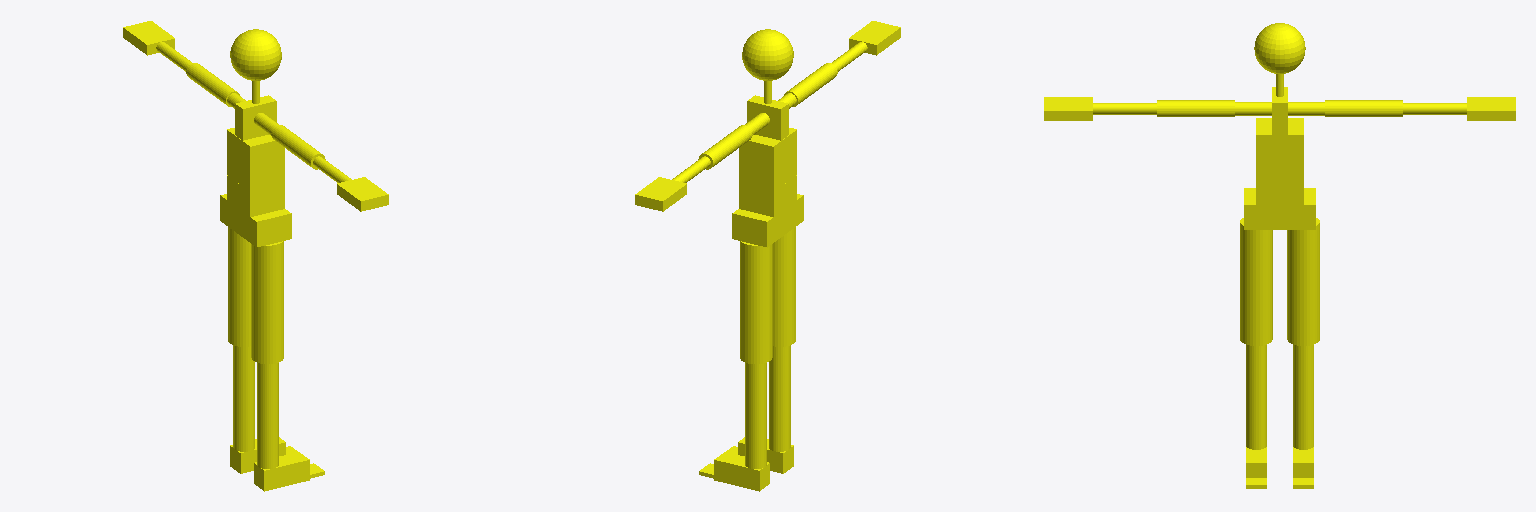
--- Facts derived from the render (not from the file) ---
3 views of the same robot in one strip: view 1: azimuth 30°, elevation 25°; view 2: azimuth 150°, elevation 25°; view 3: azimuth 270°, elevation 25° (orthographic).
Model humanoid with 51 links and 50 joints (50 fixed), rooted at Pelvis, posed all joints at 0.
Visible links, largest first — view 1: RightUpperLeg, LeftUpperLeg, RightLowerLeg, LeftLowerLeg, Head, Pelvis, T12, L5, RightFoot, L3, T8, RightHand (+4 smaller); view 2: LeftUpperLeg, RightUpperLeg, LeftLowerLeg, RightLowerLeg, Head, Pelvis, T12, L5, LeftFoot, L3, T8, LeftHand (+4 smaller); view 3: RightUpperLeg, LeftUpperLeg, Pelvis, RightLowerLeg, LeftLowerLeg, Head, T12, RightUpperArm, LeftUpperArm, L5, RightHand, LeftHand (+6 smaller).
Boxes of the visible links, x1=… form: RightUpperLeg: x1=251, y1=241, x2=283, y2=363; LeftUpperLeg: x1=228, y1=227, x2=250, y2=346; RightLowerLeg: x1=257, y1=363, x2=278, y2=468; LeftLowerLeg: x1=233, y1=345, x2=254, y2=451; Head: x1=230, y1=29, x2=281, y2=80; Pelvis: x1=220, y1=194, x2=291, y2=247; T12: x1=227, y1=128, x2=284, y2=169; L5: x1=227, y1=175, x2=284, y2=216; RightFoot: x1=254, y1=452, x2=309, y2=491; L3: x1=227, y1=153, x2=284, y2=191; T8: x1=235, y1=95, x2=276, y2=140; RightHand: x1=337, y1=177, x2=388, y2=211; LeftUpperLeg: x1=740, y1=241, x2=772, y2=363; RightUpperLeg: x1=773, y1=227, x2=795, y2=346; LeftLowerLeg: x1=745, y1=363, x2=766, y2=468; RightLowerLeg: x1=769, y1=345, x2=790, y2=451; Head: x1=742, y1=29, x2=793, y2=80; Pelvis: x1=732, y1=194, x2=803, y2=247; T12: x1=739, y1=128, x2=796, y2=169; L5: x1=739, y1=175, x2=796, y2=216; LeftFoot: x1=714, y1=452, x2=769, y2=491; L3: x1=739, y1=153, x2=796, y2=191; T8: x1=747, y1=95, x2=788, y2=140; LeftHand: x1=635, y1=177, x2=686, y2=211; RightUpperLeg: x1=1240, y1=218, x2=1272, y2=345; LeftUpperLeg: x1=1287, y1=218, x2=1319, y2=345; Pelvis: x1=1244, y1=188, x2=1315, y2=229; RightLowerLeg: x1=1246, y1=345, x2=1266, y2=449; LeftLowerLeg: x1=1293, y1=345, x2=1313, y2=449; Head: x1=1254, y1=23, x2=1305, y2=73; T12: x1=1256, y1=118, x2=1303, y2=156; RightUpperArm: x1=1157, y1=100, x2=1234, y2=116; LeftUpperArm: x1=1325, y1=100, x2=1402, y2=116; L5: x1=1256, y1=180, x2=1303, y2=204; RightHand: x1=1044, y1=97, x2=1092, y2=120; LeftHand: x1=1467, y1=97, x2=1515, y2=120.
Bounding box of the posed robot: 0.2938 × 1.63 × 1.69 m (x, y, z).
Geometry: primitives only (box / cylinder / sphere), no mesh files.

URDF robot description (humanoid):
<robot name="humanoid">

<material name="color">
    <color rgba="1.0 1.0 0.0784313725490196 1.0" />
</material>

<!--To open this model with Gazebo replace the null masses, inertias and dimensions of the 'fake links f1 and f2'-->
    <!--LINKS-->
	<!--Link base (1)-->
	<link name="Pelvis">
        <inertial>
            <mass value="0.04976"/>
			<!--COM origin wrt pHipOrigin-->
            <origin xyz="0           0    0.049743" rpy="0 0 0" />
            <inertia ixx="0.029678" iyy="0.011854" izz="0.033653" ixy="0" ixz="0" iyz="0"/>
        </inertial>

        <visual>
			<!--box origin wrt pHipOrigin-->
            <origin xyz="0           0    0.049743" rpy="0 0 0" />
            <geometry>
                <box size="0.13815     0.24914    0.097469"/>
            </geometry>
            <material name="color"/>
        </visual>

        <collision>
			<!--box origin wrt pHipOrigin-->
            <origin xyz="0           0    0.049743" rpy="0 0 0" />
            <geometry>
                <box size="0.13815     0.24914    0.097469"/>
            </geometry>
        </collision>

    </link>
    <!--Chain from (2) to (7)-->
	<link name="L5_f1">
        <inertial>
            <mass value="0"/>
            <origin xyz="0 0 0" rpy="0 0 0" />
            <inertia ixx="0" iyy="0" izz="0" ixy="0" ixz="0" iyz="0"/>
        </inertial>
    </link>
	<link name="L5">
        <inertial>
            <mass value="0.063444"/>
			<!--COM origin wrt jL5S1-->
            <origin xyz="0           0    0.047552" rpy="0 0 0" />
            <inertia ixx="0.018868" iyy="0.014872" izz="0.024177" ixy="0" ixz="0" iyz="0"/>
        </inertial>

        <visual>
			<!--box origin origin wrt jL5S1-->
            <origin xyz="0           0    0.047552" rpy="0 0 0" />
            <geometry>
                <box size="0.13815     0.16323    0.095104"/>
            </geometry>
            <material name="color"/>
        </visual>

        <collision>
			<!--box origin origin wrt jL5S1-->
            <origin xyz="0           0    0.047552" rpy="0 0 0" />
            <geometry>
                <box size="0.13815     0.16323    0.095104"/>
            </geometry>
        </collision>
    </link>
	<link name="L3_f1">
        <inertial>
            <mass value="0"/>
            <origin xyz="0 0 0" rpy="0 0 0" />
            <inertia ixx="0" iyy="0" izz="0" ixy="0" ixz="0" iyz="0"/>
        </inertial>
    </link>
	<link name="L3">
        <inertial>
            <mass value="0.063444"/>
			<!--COM origin wrt jL4L3-->
            <origin xyz="0           0    0.042958" rpy="0 0 0" />
            <inertia ixx="0.017989" iyy="0.013993" izz="0.024177" ixy="0" ixz="0" iyz="0"/>
        </inertial>

        <visual>
			<!--box origin origin wrt jL4L3-->
            <origin xyz="0           0    0.042958" rpy="0 0 0" />
            <geometry>
                <box size="0.13815     0.16323    0.085916"/>
            </geometry>
            <material name="color"/>
        </visual>

        <collision>
			<!--box origin origin wrt jL4L3-->
            <origin xyz="0           0    0.042958" rpy="0 0 0" />
            <geometry>
                <box size="0.13815     0.16323    0.085916"/>
            </geometry>
        </collision>
    </link>
	<link name="T12_f1">
        <inertial>
            <mass value="0"/>
            <origin xyz="0 0 0" rpy="0 0 0" />
            <inertia ixx="0" iyy="0" izz="0" ixy="0" ixz="0" iyz="0"/>
        </inertial>
    </link>
	<link name="T12">
        <inertial>
            <mass value="0.063444"/>
			<!--COM origin wrt jL1T12-->
            <origin xyz="0           0    0.042958" rpy="0 0 0" />
            <inertia ixx="0.017989" iyy="0.013993" izz="0.024177" ixy="0" ixz="0" iyz="0"/>
        </inertial>

        <visual>
			<!--box origin origin wrt jL1T12-->
            <origin xyz="0           0    0.042958" rpy="0 0 0" />
            <geometry>
                <box size="0.13815     0.16323    0.085916"/>
            </geometry>
            <material name="color"/>
        </visual>

        <collision>
			<!--box origin origin wrt jL1T12-->
            <origin xyz="0           0    0.042958" rpy="0 0 0" />
            <geometry>
                <box size="0.13815     0.16323    0.085916"/>
            </geometry>
        </collision>
    </link>
	<link name="T8_f1">
        <inertial>
            <mass value="0"/>
            <origin xyz="0 0 0" rpy="0 0 0" />
            <inertia ixx="0" iyy="0" izz="0" ixy="0" ixz="0" iyz="0"/>
        </inertial>
    </link>
	<link name="T8_f2">
        <inertial>
            <mass value="0"/>
            <origin xyz="0 0 0" rpy="0 0 0" />
            <inertia ixx="0" iyy="0" izz="0" ixy="0" ixz="0" iyz="0"/>
        </inertial>
    </link>
	<link name="T8">
        <inertial>
            <mass value="0.02488"/>
			<!--COM origin wrt jT9T8-->
            <origin xyz="0           0    0.059874" rpy="0 0 0" />
            <inertia ixx="0.0035473" iyy="0.0067278" izz="0.0043289" ixy="0" ixz="0" iyz="0"/>
        </inertial>

        <visual>
			<!--box origin wrt jT9T8-->
            <origin xyz="0           0    0.059874" rpy="0 0 0" />
            <geometry>
                <box size="0.13457    0.052626     0.11975"/>
            </geometry>
            <material name="color"/>
        </visual>

        <collision>
			<!--box origin wrt jT9T8-->
            <origin xyz="0           0    0.059874" rpy="0 0 0" />
            <geometry>
                <box size="0.13457    0.052626     0.11975"/>
            </geometry>
        </collision>

    </link>
	<link name="Neck_f1">
        <inertial>
            <mass value="0"/>
            <origin xyz="0 0 0" rpy="0 0 0" />
            <inertia ixx="0" iyy="0" izz="0" ixy="0" ixz="0" iyz="0"/>
        </inertial>
    </link>
	<link name="Neck_f2">
        <inertial>
            <mass value="0"/>
            <origin xyz="0 0 0" rpy="0 0 0" />
            <inertia ixx="0" iyy="0" izz="0" ixy="0" ixz="0" iyz="0"/>
        </inertial>
    </link>
	<link name="Neck">
        <inertial>
            <mass value="0.007464"/>
			<!--COM origin wrt jT1C7-->
            <origin xyz="0           0    0.044626" rpy="0 0 0" />
            <inertia ixx="0.0006461" iyy="0.0006461" izz="0.00030124" ixy="0" ixz="0" iyz="0"/>
        </inertial>

        <visual>
			<!--box origin wrt jT1C7-->
            <origin xyz="0           0    0.044626" rpy="0 0 0" />
            <geometry>
		<cylinder length="0.089252" radius="0.014205"/>
            </geometry>
            <material name="color"/>
        </visual>

        <collision>
			<!--box origin wrt jT1C7-->
            <origin xyz="0           0    0.044626" rpy="0 0 0" />
            <geometry>
                <cylinder length="0.089252" radius="0.014205"/>
            </geometry>
        </collision>
    </link>
	<link name="Head_f1">
        <inertial>
            <mass value="0"/>
            <origin xyz="0 0 0" rpy="0 0 0" />
            <inertia ixx="0" iyy="0" izz="0" ixy="0" ixz="0" iyz="0"/>
        </inertial>
    </link>
	<link name="Head">
        <inertial>
            <mass value="0.022392"/>
			<!--COM origin wrt jC1Head-->
            <origin xyz="0           0    0.089005" rpy="0 0 0" />
            <inertia ixx="0.0070955" iyy="0.0070955" izz="0.0070955" ixy="0" ixz="0" iyz="0"/>
        </inertial>

        <visual>
			<!--boc origin wrt jC1Head-->
            <origin xyz="0           0    0.089005" rpy="0 0 0" />
            <geometry>
                <sphere radius="0.089005"/>
            </geometry>
            <material name="color"/>
        </visual>

        <collision>
			<!--box origin wrt jC1Head-->
            <origin xyz="0           0    0.089005" rpy="0 0 0" />
            <geometry>
                <sphere radius="0.089005"/>
            </geometry>
        </collision>

    </link>
	<!--Chain from (8) to (11)-->
	<link name="RightShoulder">
        <inertial>
            <mass value="0.019282"/>
			<!--COM origin wrt jRightC7Shoulder-->
            <origin xyz="0   -0.065233           0" rpy="0 0 0" />
            <inertia ixx="0.0030029" iyy="0.00053578" izz="0.0030029" ixy="0" ixz="0" iyz="0"/>
        </inertial>

        <visual>
			<!--box origin wrt jRightC7Shoulder. RPY rotated of pi/2.-->
            <origin xyz="0   -0.065233           0" rpy="1.5708 0 0" />
            <geometry>
                <cylinder length="0.13047" radius="0.023574"/>
            </geometry>
            <material name="color"/>
        </visual>

        <collision>
			<!--box origin wrt jRightC7Shoulder. RPY rotated of pi/2.-->
            <origin xyz="0   -0.065233           0" rpy="1.5708 0 0" />
            <geometry>
                <cylinder length="0.13047" radius="0.023574"/>
            </geometry>
        </collision>

    </link>
	<link name="RightUpperArm_f1">
        <inertial>
            <mass value="0"/>
            <origin xyz="0 0 0" rpy="0 0 0" />
            <inertia ixx="0" iyy="0" izz="0" ixy="0" ixz="0" iyz="0"/>
        </inertial>
    </link>
	<link name="RightUpperArm_f2">
        <inertial>
            <mass value="0"/>
            <origin xyz="0 0 0" rpy="0 0 0" />
            <inertia ixx="0" iyy="0" izz="0" ixy="0" ixz="0" iyz="0"/>
        </inertial>
    </link>
    <link name="RightUpperArm">
        <inertial>
            <mass value="0.01866"/>
			<!--COM origin wrt jRightShoulder-->
            <origin xyz="0    -0.13497           0" rpy="0 0 0" />
            <inertia ixx="0.011736" iyy="0.00080917" izz="0.011736" ixy="0" ixz="0" iyz="0"/>
        </inertial>

        <visual>
			<!--box origin wrt jRightShoulder. RPY rotated of pi/2.-->
            <origin xyz="0    -0.13497           0" rpy="1.5708 0 0" />
            <geometry>
                <cylinder length="0.26994" radius="0.029449"/>
            </geometry>
            <material name="color"/>
        </visual>

        <collision>
			<!--box origin wrt jRightShoulder. RPY rotated of pi/2.-->
            <origin xyz="0    -0.13497           0" rpy="1.5708 0 0" />
            <geometry>
                <cylinder length="0.26994" radius="0.029449"/>
            </geometry>
        </collision>

    </link>
	<link name="RightForeArm_f1">
        <inertial>
            <mass value="0"/>
            <origin xyz="0 0 0" rpy="0 0 0" />
            <inertia ixx="0" iyy="0" izz="0" ixy="0" ixz="0" iyz="0"/>
        </inertial>
    </link>
	<link name="RightForeArm">
        <inertial>
            <mass value="0.01244"/>
			<!--COM origin wrt jRightElbow-->
            <origin xyz="0    -0.11124           0" rpy="0 0 0" />
            <inertia ixx="0.0052508" iyy="0.00023975" izz="0.0052508" ixy="0" ixz="0" iyz="0"/>
        </inertial>

        <visual>
			<!--box origin wrt jRightElbow. RPY rotated of pi/2.-->
            <origin xyz="0    -0.11124           0" rpy="1.5708 0 0" />
            <geometry>
                <cylinder length="0.22247" radius="0.019633"/>
            </geometry>
            <material name="color"/>
        </visual>

        <collision>
			<!--box origin wrt jRightElbow. RPY rotated of pi/2.-->
            <origin xyz="0    -0.11124           0" rpy="1.5708 0 0" />
            <geometry>
                <cylinder length="0.22247" radius="0.019633"/>
            </geometry>
        </collision>

    </link>
	<link name="RightHand_f1">
        <inertial>
            <mass value="0"/>
            <origin xyz="0 0 0" rpy="0 0 0" />
            <inertia ixx="0" iyy="0" izz="0" ixy="0" ixz="0" iyz="0"/>
        </inertial>
    </link>
	<link name="RightHand">
        <inertial>
            <mass value="0.003732"/>
			<!--COM origin wrt jRightWrist-->
            <origin xyz="0   -0.083588           0" rpy="0 0 0" />
            <inertia ixx="0.00091713" iyy="0.00043425" izz="0.0012555" ixy="0" ixz="0" iyz="0"/>
        </inertial>

        <visual>
			<!--box origin wrt jRightWrist-->
            <origin xyz="0   -0.083588           0" rpy="0 0 0" />
            <geometry>
                <box size="0.11145     0.16718    0.039266"/>
            </geometry>
            <material name="color"/>
        </visual>

        <collision>
			<!--box origin wrt jRightWrist-->
            <origin xyz="0   -0.083588           0" rpy="0 0 0" />
            <geometry>
                <box size="0.11145     0.16718    0.039266"/>
            </geometry>
        </collision>

    </link>
    <link name="RightHandCOM">
        <inertial>
            <mass value="0.0000001"/>
            <origin xyz="0 0 0" rpy="0 0 0" />
            <inertia ixx="0" iyy="0" izz="0" ixy="0" ixz="0" iyz="0"/>
        </inertial>
        <visual>
            <!--box origin wrt jRightWrist-->
            <origin xyz="0   0           0" rpy="0 0 0" />
            <geometry>
                <box size="0     0    0"/>
            </geometry>
            <material name="color"/>
        </visual>
    </link>
	<!--Chain from (12) to (15)-->
	<link name="LeftShoulder">
        <inertial>
            <mass value="0.019282"/>
			<!--COM origin wrt jLeftC7Shoulder-->
            <origin xyz="0    0.065233           0" rpy="0 0 0" />
            <inertia ixx="0.0030029" iyy="0.00053578" izz="0.0030029" ixy="0" ixz="0" iyz="0"/>
        </inertial>

        <visual>
			<!--box origin wrt jLeftC7Shoulder. RPY rotated of pi/2.-->
            <origin xyz="0    0.065233           0" rpy="1.5708 0 0" />
            <geometry>
                <cylinder length="0.13047" radius="0.023574"/>
            </geometry>
            <material name="color"/>
        </visual>

        <collision>
			<!--box origin wrt jLeftC7Shoulder. RPY rotated of pi/2.-->
            <origin xyz="0    0.065233           0" rpy="1.5708 0 0" />
            <geometry>
                <cylinder length="0.13047" radius="0.023574"/>
            </geometry>
        </collision>

    </link>
	<link name="LeftUpperArm_f1">
        <inertial>
            <mass value="0"/>
            <origin xyz="0 0 0" rpy="0 0 0" />
            <inertia ixx="0" iyy="0" izz="0" ixy="0" ixz="0" iyz="0"/>
        </inertial>
    </link>
	<link name="LeftUpperArm_f2">
        <inertial>
            <mass value="0"/>
            <origin xyz="0 0 0" rpy="0 0 0" />
            <inertia ixx="0" iyy="0" izz="0" ixy="0" ixz="0" iyz="0"/>
        </inertial>
    </link>
	<link name="LeftUpperArm">
        <inertial>
            <mass value="0.01866"/>
			<!--COM origin wrt jLeftShoulder-->
            <origin xyz="0     0.13497           0" rpy="0 0 0" />
            <inertia ixx="0.011736" iyy="0.00080917" izz="0.011736" ixy="0" ixz="0" iyz="0"/>
        </inertial>

        <visual>
			<!--box origin wrt jLeftShoulder. RPY rotated of pi/2.-->
            <origin xyz="0     0.13497           0" rpy="1.5708 0 0" />
            <geometry>
                <cylinder length="0.26994" radius="0.029449"/>
            </geometry>
            <material name="color"/>
        </visual>

        <collision>
			<!--box origin wrt jLeftShoulder. RPY rotated of pi/2.-->
            <origin xyz="0     0.13497           0" rpy="1.5708 0 0" />
            <geometry>
                <cylinder length="0.26994" radius="0.029449"/>
            </geometry>
        </collision>

    </link>
	<link name="LeftForeArm_f1">
        <inertial>
            <mass value="0"/>
            <origin xyz="0 0 0" rpy="0 0 0" />
            <inertia ixx="0" iyy="0" izz="0" ixy="0" ixz="0" iyz="0"/>
        </inertial>
    </link>
	<link name="LeftForeArm">
        <inertial>
            <mass value="0.01244"/>
			<!--COM origin wrt jLeftElbow-->
            <origin xyz="0     0.11124           0" rpy="0 0 0" />
            <inertia ixx="0.0052508" iyy="0.00023975" izz="0.0052508" ixy="0" ixz="0" iyz="0"/>
        </inertial>

        <visual>
			<!--box origin wrt jLeftElbow. RPY rotated of pi/2.-->
            <origin xyz="0     0.11124           0" rpy="1.5708 0 0" />
            <geometry>
                <cylinder length="0.22247" radius="0.019633"/>
            </geometry>
            <material name="color"/>
        </visual>

        <collision>
			<!--box origin wrt jLeftElbow. RPY rotated of pi/2.-->
            <origin xyz="0     0.11124           0" rpy="1.5708 0 0" />
            <geometry>
                <cylinder length="0.22247" radius="0.019633"/>
            </geometry>
        </collision>

    </link>
	<link name="LeftHand_f1">
        <inertial>
            <mass value="0"/>
            <origin xyz="0 0 0" rpy="0 0 0" />
            <inertia ixx="0" iyy="0" izz="0" ixy="0" ixz="0" iyz="0"/>
        </inertial>
    </link>
	<link name="LeftHand">
        <inertial>
            <mass value="0.003732"/>
			<!--COM origin wrt jLeftWrist-->
            <origin xyz="0    0.083588           0" rpy="0 0 0" />
            <inertia ixx="0.00091713" iyy="0.00043425" izz="0.0012555" ixy="0" ixz="0" iyz="0"/>
        </inertial>

        <visual>
			<!--COM origin wrt jLeftWrist-->
            <origin xyz="0    0.083588           0" rpy="0 0 0" />
            <geometry>
                <box size="0.11145     0.16718    0.039266"/>
            </geometry>
            <material name="color"/>
        </visual>

        <collision>
			<!--COM origin wrt jLeftWrist-->
            <origin xyz="0    0.083588           0" rpy="0 0 0" />
            <geometry>
                <box size="0.11145     0.16718    0.039266"/>
            </geometry>
        </collision>

    </link>
    <link name="LeftHandCOM">
        <inertial>
            <mass value="0.0000001"/>
            <origin xyz="0 0 0" rpy="0 0 0" />
            <inertia ixx="0" iyy="0" izz="0" ixy="0" ixz="0" iyz="0"/>
        </inertial>
        <visual>
            <!--COM origin wrt jLeftWrist-->
            <origin xyz="0    0           0" rpy="0 0 0" />
            <geometry>
                <box size="0     0    0"/>
            </geometry>
            <material name="color"/>
        </visual>
    </link>
	<!--Chain from (16) to (19)-->
	<link name="RightUpperLeg_f1">
        <inertial>
            <mass value="0"/>
            <origin xyz="0 0 0" rpy="0 0 0" />
            <inertia ixx="0" iyy="0" izz="0" ixy="0" ixz="0" iyz="0"/>
        </inertial>
    </link>
	<link name="RightUpperLeg_f2">
        <inertial>
            <mass value="0"/>
            <origin xyz="0 0 0" rpy="0 0 0" />
            <inertia ixx="0" iyy="0" izz="0" ixy="0" ixz="0" iyz="0"/>
        </inertial>
    </link>
    <link name="RightUpperLeg">
        <inertial>
            <mass value="0.07775"/>
			<!--COM origin wrt jRightHip-->
            <origin xyz="0           0    -0.22449" rpy="0 0 0" />
            <inertia ixx="0.13681" iyy="0.13681" izz="0.01241" ixy="0" ixz="0" iyz="0"/>
        </inertial>

        <visual>
			<!--box origin wrt jRightHip-->
            <origin xyz="0           0    -0.22449" rpy="0 0 0" />
            <geometry>
                <cylinder length="0.44898" radius="0.0565"/>
            </geometry>
            <material name="color"/>
        </visual>

        <collision>
			<!--box origin wrt jRightHip-->
            <origin xyz="0           0    -0.22449" rpy="0 0 0" />
            <geometry>
                <cylinder length="0.44898" radius="0.0565"/>
            </geometry>
        </collision>

    </link>
	<link name="RightLowerLeg_f1">
        <inertial>
            <mass value="0"/>
            <origin xyz="0 0 0" rpy="0 0 0" />
            <inertia ixx="0" iyy="0" izz="0" ixy="0" ixz="0" iyz="0"/>
        </inertial>
    </link>
    <link name="RightLowerLeg">
        <inertial>
            <mass value="0.022703"/>
			<!--COM origin wrt jRightKnee-->
            <origin xyz="0           0    -0.20304" rpy="0 0 0" />
            <inertia ixx="0.031992" iyy="0.031992" izz="0.0015867" ixy="0" ixz="0" iyz="0"/>
        </inertial>

        <visual>
			<!--box origin wrt jRightKnee-->
            <origin xyz="0           0    -0.20304" rpy="0 0 0" />
            <geometry>
                <cylinder length="0.40608" radius="0.037388"/>
            </geometry>
            <material name="color"/>
        </visual>

        <collision>
			<!--box origin wrt jRightKnee-->
            <origin xyz="0           0    -0.20304" rpy="0 0 0" />
            <geometry>
                <cylinder length="0.40608" radius="0.037388"/>
            </geometry>
        </collision>

    </link>
	<link name="RightFoot_f1">
        <inertial>
            <mass value="0"/>
            <origin xyz="0 0 0" rpy="0 0 0" />
            <inertia ixx="0" iyy="0" izz="0" ixy="0" ixz="0" iyz="0"/>
        </inertial>
    </link>
	<link name="RightFoot_f2">
        <inertial>
            <mass value="0"/>
            <origin xyz="0 0 0" rpy="0 0 0" />
            <inertia ixx="0" iyy="0" izz="0" ixy="0" ixz="0" iyz="0"/>
        </inertial>
    </link>
    <link name="RightFoot">
        <inertial>
            <mass value="0.008086"/>
			<!--COM origin wrt jRightAnkle-->
            <origin xyz="0.054652           0   -0.039254" rpy="0 0 0" />
            <inertia ixx="0.00079209" iyy="0.0025944" izz="0.0025558" ixy="0" ixz="0" iyz="0"/>
        </inertial>

        <visual>
			<!--box origin wrt jRightAnkle-->
	    	<origin xyz="0.054652           0   -0.039254" rpy="0 0 0" />
            <geometry>
                <box size="0.17983    0.074775    0.078509"/>
            </geometry>
            <material name="color"/>
        </visual>

        <collision>
			<!--box origin wrt jRightAnkle-->
		    <origin xyz="0.054652           0   -0.039254" rpy="0 0 0" />
	            <geometry>
	                <box size="0.17983    0.074775    0.078509"/>
	            </geometry>
        </collision>

    </link>
    <link name="RightToe">
        <inertial>
            <mass value="0.000933"/>
			<!--COM origin wrt jRightBallFoot-->
            <origin xyz="0.030086           0           0" rpy="0 0 0" />
            <inertia ixx="4.5038e-05" iyy="2.9717e-05" izz="7.1624e-05" ixy="0" ixz="0" iyz="0"/>
        </inertial>

        <visual>
			<!--box origin wrt jRightBallFoot-->
            <origin xyz="0.030086           0           0" rpy="0 0 0" />
            <geometry>
                <box size="0.060173    0.074775    0.014191"/>
            </geometry>
            <material name="color"/>
        </visual>

        <collision>
			<!--box origin wrt jRightBallFoot-->
            <origin xyz="0.030086           0           0" rpy="0 0 0" />
            <geometry>
                <box size="0.060173    0.074775    0.014191"/>
            </geometry>
        </collision>
    </link>
	<!--Chain from (20) to (23)-->
	<link name="LeftUpperLeg_f1">
        <inertial>
            <mass value="0"/>
            <origin xyz="0 0 0" rpy="0 0 0" />
            <inertia ixx="0" iyy="0" izz="0" ixy="0" ixz="0" iyz="0"/>
        </inertial>
    </link>
	<link name="LeftUpperLeg_f2">
        <inertial>
            <mass value="0"/>
            <origin xyz="0 0 0" rpy="0 0 0" />
            <inertia ixx="0" iyy="0" izz="0" ixy="0" ixz="0" iyz="0"/>
        </inertial>
    </link>
    <link name="LeftUpperLeg">
        <inertial>
            <mass value="0.07775"/>
			<!--COM origin wrt jLeftHip-->
            <origin xyz="0           0    -0.22449" rpy="0 0 0" />
            <inertia ixx="0.13681" iyy="0.13681" izz="0.01241" ixy="0" ixz="0" iyz="0"/>
        </inertial>

        <visual>
			<!--box origin wrt jLeftHip-->
            <origin xyz="0           0    -0.22449" rpy="0 0 0" />
            <geometry>
                <cylinder length="0.44898" radius="0.0565"/>
            </geometry>
            <material name="color"/>
        </visual>

        <collision>
			<!--box origin wrt jLeftHip-->
            <origin xyz="0           0    -0.22449" rpy="0 0 0" />
            <geometry>
                <cylinder length="0.44898" radius="0.0565"/>
            </geometry>
        </collision>

    </link>
	<link name="LeftLowerLeg_f1">
        <inertial>
            <mass value="0"/>
            <origin xyz="0 0 0" rpy="0 0 0" />
            <inertia ixx="0" iyy="0" izz="0" ixy="0" ixz="0" iyz="0"/>
        </inertial>
    </link>
	<link name="LeftLowerLeg">
        <inertial>
            <mass value="0.022703"/>
			<!--COM origin wrt jLeftKnee-->
            <origin xyz="0           0    -0.20304" rpy="0 0 0" />
            <inertia ixx="0.031992" iyy="0.031992" izz="0.0015867" ixy="0" ixz="0" iyz="0"/>
        </inertial>

        <visual>
			<!--box origin wrt jLeftKnee-->
            <origin xyz="0           0    -0.20304" rpy="0 0 0" />
            <geometry>
		<cylinder length="0.40608" radius="0.037388"/>
            </geometry>
            <material name="color"/>
        </visual>

        <collision>
			<!--box origin wrt jLeftKnee-->
            <origin xyz="0           0    -0.20304" rpy="0 0 0" />
            <geometry>
		<cylinder length="0.40608" radius="0.037388"/>
            </geometry>
        </collision>

    </link>
	<link name="LeftFoot_f1">
        <inertial>
            <mass value="0"/>
            <origin xyz="0 0 0" rpy="0 0 0" />
            <inertia ixx="0" iyy="0" izz="0" ixy="0" ixz="0" iyz="0"/>
        </inertial>
    </link>
	<link name="LeftFoot_f2">
        <inertial>
            <mass value="0"/>
            <origin xyz="0 0 0" rpy="0 0 0" />
            <inertia ixx="0" iyy="0" izz="0" ixy="0" ixz="0" iyz="0"/>
        </inertial>
    </link>
    <link name="LeftFoot">
        <inertial>
            <mass value="0.008086"/>
			<!--COM origin wrt jLeftAnkle-->
            <origin xyz="0.054652           0   -0.039254" rpy="0 0 0" />
            <inertia ixx="0.00079209" iyy="0.0025944" izz="0.0025558" ixy="0" ixz="0" iyz="0"/>
        </inertial>

        <visual>
			<!--box origin wrt jLeftAnkle-->
	   	 	<origin xyz="0.054652           0   -0.039254" rpy="0 0 0" />
            <geometry>
                <box size="0.17983    0.074775    0.078509"/>
            </geometry>
            <material name="color"/>
        </visual>

        <collision>
			<!--box origin wrt jLeftAnkle-->
		    <origin xyz="0.054652           0   -0.039254" rpy="0 0 0" />
	            <geometry>
	                <box size="0.17983    0.074775    0.078509"/>
	            </geometry>
        </collision>

    </link>
	<link name="LeftToe">
        <inertial>
            <mass value="0.000933"/>
			<!--COM origin wrt jLeftBallFoot-->
            <origin xyz="0.030086           0           0" rpy="0 0 0" />
            <inertia ixx="4.5038e-05" iyy="2.9717e-05" izz="7.1624e-05" ixy="0" ixz="0" iyz="0"/>
        </inertial>

        <visual>
			<!--box origin wrt jLeftBallFoot-->
            <origin xyz="0.030086           0           0" rpy="0 0 0" />
            <geometry>
                <box size="0.060173    0.074775    0.014191"/>
            </geometry>
            <material name="color"/>
        </visual>

        <collision>
			<!--box origin wrt jLeftBallFoot-->
            <origin xyz="0.030086           0           0" rpy="0 0 0" />
            <geometry>
                <box size="0.060173    0.074775    0.014191"/>
            </geometry>
        </collision>
    </link>


	<!--JOINTS-->
	<!--Chain from (2) to (7)-->
	<joint name="jL5S1_rotx" type="fixed">
        <origin xyz="-0.000206           0    0.098478" rpy="0 0 0"/>
        <parent link="Pelvis"/>
        <child link="L5_f1"/>
        <dynamics damping="0.1" friction="0.0"/>
        <limit effort="30" velocity="1.0" lower="-0.610865" upper="0.610865" />
        <axis xyz="1 0 0" />
    </joint>
	<joint name="jL5S1_roty" type="fixed">
        <origin xyz="0 0 0" rpy="0 0 0"/>
        <parent link="L5_f1"/>
        <child link="L5"/>
        <dynamics damping="0.1" friction="0.0"/>
        <limit effort="30" velocity="1.0" lower="-0.523599" upper="1.309" />
        <axis xyz="0 1 0" />
    </joint>
	<joint name="jL4L3_rotx" type="fixed">
        <origin xyz="0.000374           0    0.095104" rpy="0 0 0"/>
        <parent link="L5"/>
        <child link="L3_f1"/>
        <dynamics damping="0.1" friction="0.0"/>
        <limit effort="30" velocity="1.0" lower="-0.610865" upper="0.610865" />
        <axis xyz="1 0 0" />
    </joint>
	<joint name="jL4L3_roty" type="fixed">
        <origin xyz="0 0 0" rpy="0 0 0"/>
        <parent link="L3_f1"/>
        <child link="L3"/>
        <dynamics damping="0.1" friction="0.0"/>
        <limit effort="30" velocity="1.0" lower="-0.523599" upper="1.309" />
        <axis xyz="0 1 0" />
    </joint>
	<joint name="jL1T12_rotx" type="fixed">
        <origin xyz="0           0    0.085916" rpy="0 0 0"/>
        <parent link="L3"/>
        <child link="T12_f1"/>
        <dynamics damping="0.1" friction="0.0"/>
        <limit effort="30" velocity="1.0" lower="-0.610865" upper="0.610865" />
        <axis xyz="1 0 0" />
    </joint>
	<joint name="jL1T12_roty" type="fixed">
        <origin xyz="0 0 0" rpy="0 0 0"/>
        <parent link="T12_f1"/>
        <child link="T12"/>
        <dynamics damping="0.1" friction="0.0"/>
        <limit effort="30" velocity="1.0" lower="-0.523599" upper="1.309" />
        <axis xyz="0 1 0" />
    </joint>
	<joint name="jT9T8_rotx" type="fixed">
        <origin xyz="0           0    0.085916" rpy="0 0 0"/>
        <parent link="T12"/>
        <child link="T8_f1"/>
        <dynamics damping="0.1" friction="0.0"/>
        <limit effort="30" velocity="1.0" lower="-0.349066" upper="0.349066" />
        <axis xyz="1 0 0" />
    </joint>
	<joint name="jT9T8_roty" type="fixed">
        <origin xyz="0 0 0" rpy="0 0 0"/>
        <parent link="T8_f1"/>
        <child link="T8_f2"/>
        <dynamics damping="0.1" friction="0.0"/>
        <limit effort="30" velocity="1.0" lower="-0.261799" upper="0.698132" />
        <axis xyz="0 1 0" />
    </joint>
    <joint name="jT9T8_rotz" type="fixed">
        <origin xyz="0 0 0" rpy="0 0 0"/>
        <parent link="T8_f2"/>
        <child link="T8"/>
        <dynamics damping="0.1" friction="0.0"/>
        <limit effort="30" velocity="1.0" lower="-0.610865" upper="0.610865" />
        <axis xyz="0 0 1" />
    </joint>
	<joint name="jT1C7_rotx" type="fixed">
        <origin xyz="0           0     0.11975" rpy="0 0 0"/>
        <parent link="T8"/>
        <child link="Neck_f1"/>
        <dynamics damping="0.1" friction="0.0"/>
        <limit effort="30" velocity="1.0" lower="-0.610865" upper="0.610865" />
        <axis xyz="1 0 0" />
    </joint>
	<joint name="jT1C7_roty" type="fixed">
        <origin xyz="0 0 0" rpy="0 0 0"/>
        <parent link="Neck_f1"/>
        <child link="Neck_f2"/>
        <dynamics damping="0.1" friction="0.0"/>
        <limit effort="30" velocity="1.0" lower="-0.959931" upper="1.5708" />
        <axis xyz="0 1 0" />
    </joint>
    <joint name="jT1C7_rotz" type="fixed">
        <origin xyz="0 0 0" rpy="0 0 0"/>
        <parent link="Neck_f2"/>
        <child link="Neck"/>
        <dynamics damping="0.1" friction="0.0"/>
        <limit effort="30" velocity="1.0" lower="-1.22173" upper="1.22173" />
        <axis xyz="0 0 1" />
    </joint>
	<joint name="jC1Head_rotx" type="fixed">
        <origin xyz="0.000152           0    0.089252" rpy="0 0 0"/>
        <parent link="Neck"/>
        <child link="Head_f1"/>
        <dynamics damping="0.1" friction="0.0"/>
        <limit effort="30" velocity="1.0" lower="-0.610865" upper="0.610865" />
        <axis xyz="1 0 0" />
    </joint>
	<joint name="jC1Head_roty" type="fixed">
        <origin xyz="0 0 0" rpy="0 0 0"/>
        <parent link="Head_f1"/>
        <child link="Head"/>
        <dynamics damping="0.1" friction="0.0"/>
        <limit effort="30" velocity="1.0" lower="-0.436332" upper="0.174533" />
        <axis xyz="0 1 0" />
    </joint>
	<!--Chain from (8) to (11)-->
	<joint name="jRightC7Shoulder_rotx" type="fixed">
        <origin xyz="0   -0.026313    0.067052" rpy="0 0 0"/>
        <parent link="T8"/>
        <child link="RightShoulder"/>
        <dynamics damping="0.1" friction="0.0"/>
        <limit effort="30" velocity="1.0" lower="-0.785398" upper="0.0872665" />
        <axis xyz="1 0 0" />
    </joint>
	<joint name="jRightShoulder_rotx" type="fixed">
        <origin xyz="0    -0.13047           0" rpy="0 0 0"/>
        <parent link="RightShoulder"/>
        <child link="RightUpperArm_f1"/>
        <dynamics damping="0.1" friction="0.0"/>
        <limit effort="30" velocity="1.0" lower="-2.35619" upper="1.5708" />
        <axis xyz="1 0 0" />
    </joint>
	<joint name="jRightShoulder_roty" type="fixed">
        <origin xyz="0 0 0" rpy="0 0 0"/>
        <parent link="RightUpperArm_f1"/>
        <child link="RightUpperArm_f2"/>
        <dynamics damping="0.1" friction="0.0"/>
        <limit effort="30" velocity="1.0" lower="-1.5708" upper="1.5708" />
        <axis xyz="0 1 0" />
    </joint>
    <joint name="jRightShoulder_rotz" type="fixed">
        <origin xyz="0 0 0" rpy="0 0 0"/>
        <parent link="RightUpperArm_f2"/>
        <child link="RightUpperArm"/>
        <dynamics damping="0.1" friction="0.0"/>
        <limit effort="30" velocity="1.0" lower="-0.785398" upper="3.14159" />
        <axis xyz="0 0 1" />
    </joint>
	<joint name="jRightElbow_roty" type="fixed">
        <origin xyz="0    -0.26994           0" rpy="0 0 0"/>
        <parent link="RightUpperArm"/>
        <child link="RightForeArm_f1"/>
        <dynamics damping="0.1" friction="0.0"/>
        <limit effort="30" velocity="1.0" lower="-1.5708" upper="1.48353" />
        <axis xyz="0 1 0" />
    </joint>
	<joint name="jRightElbow_rotz" type="fixed">
        <origin xyz="0 0 0" rpy="0 0 0"/>
        <parent link="RightForeArm_f1"/>
        <child link="RightForeArm"/>
        <dynamics damping="0.1" friction="0.0"/>
        <limit effort="30" velocity="1.0" lower="0" upper="2.53073" />
        <axis xyz="0 0 1" />
    </joint>
	<joint name="jRightWrist_rotx" type="fixed">
        <origin xyz="7.7e-05    -0.22247           0" rpy="0 0 0"/>
        <parent link="RightForeArm"/>
        <child link="RightHand_f1"/>
        <dynamics damping="0.1" friction="0.0"/>
        <limit effort="30" velocity="1.0" lower="-0.872665" upper="1.0472" />
        <axis xyz="1 0 0" />
    </joint>
	<joint name="jRightWrist_rotz" type="fixed">
        <origin xyz="0 0 0" rpy="0 0 0"/>
        <parent link="RightHand_f1"/>
        <child link="RightHand"/>
        <dynamics damping="0.1" friction="0.0"/>
        <limit effort="30" velocity="1.0" lower="-0.523599" upper="0.349066" />
        <axis xyz="0 0 1" />
    </joint>
    <joint name="jRightHandCOM" type="fixed">
        <origin xyz="0 -0.096206 0" rpy="0 0 0"/>
        <parent link="RightHand"/>
        <child link="RightHandCOM"/>
        <axis xyz="0 0 0" />
    </joint>
	<!--Chain from (12) to (15)-->
	<joint name="jLeftC7Shoulder_rotx" type="fixed">
        <origin xyz="0    0.026313    0.067052" rpy="0 0 0"/>
        <parent link="T8"/>
        <child link="LeftShoulder"/>
        <dynamics damping="0.1" friction="0.0"/>
        <limit effort="30" velocity="1.0" lower="-0.0872665" upper="0.785398" />
        <axis xyz="1 0 0" />
    </joint>
	<joint name="jLeftShoulder_rotx" type="fixed">
        <origin xyz="0     0.13047           0" rpy="0 0 0"/>
        <parent link="LeftShoulder"/>
        <child link="LeftUpperArm_f1"/>
        <dynamics damping="0.1" friction="0.0"/>
        <limit effort="30" velocity="1.0" lower="-1.5708" upper="2.35619" />
        <axis xyz="1 0 0" />
    </joint>
	<joint name="jLeftShoulder_roty" type="fixed">
        <origin xyz="0 0 0" rpy="0 0 0"/>
        <parent link="LeftUpperArm_f1"/>
        <child link="LeftUpperArm_f2"/>
        <dynamics damping="0.1" friction="0.0"/>
        <limit effort="30" velocity="1.0" lower="-1.5708" upper="1.5708" />
        <axis xyz="0 1 0" />
    </joint>
    <joint name="jLeftShoulder_rotz" type="fixed">
        <origin xyz="0 0 0" rpy="0 0 0"/>
        <parent link="LeftUpperArm_f2"/>
        <child link="LeftUpperArm"/>
        <dynamics damping="0.1" friction="0.0"/>
        <limit effort="30" velocity="1.0" lower="-3.14159" upper="0.785398" />
        <axis xyz="0 0 1" />
    </joint>
    <joint name="jLeftElbow_roty" type="fixed">
        <origin xyz="0     0.26994           0" rpy="0 0 0"/>
        <parent link="LeftUpperArm"/>
        <child link="LeftForeArm_f1"/>
        <dynamics damping="0.1" friction="0.0"/>
        <limit effort="30" velocity="1.0" lower="-1.5708" upper="1.48353" />
        <axis xyz="0 1 0" />
    </joint>
    <joint name="jLeftElbow_rotz" type="fixed">
        <origin xyz="0 0 0" rpy="0 0 0"/>
        <parent link="LeftForeArm_f1"/>
        <child link="LeftForeArm"/>
        <dynamics damping="0.1" friction="0.0"/>
        <limit effort="30" velocity="1.0" lower="-2.53073" upper="0" />
        <axis xyz="0 0 1" />
    </joint>
	<joint name="jLeftWrist_rotx" type="fixed">
        <origin xyz="7.7e-05     0.22247           0" rpy="0 0 0"/>
        <parent link="LeftForeArm"/>
        <child link="LeftHand_f1"/>
        <dynamics damping="0.1" friction="0.0"/>
        <limit effort="30" velocity="1.0" lower="-1.0472" upper="0.872665" />
        <axis xyz="1 0 0" />
    </joint>
	<joint name="jLeftWrist_rotz" type="fixed">
        <origin xyz="0 0 0" rpy="0 0 0"/>
        <parent link="LeftHand_f1"/>
        <child link="LeftHand"/>
        <dynamics damping="0.1" friction="0.0"/>
        <limit effort="30" velocity="1.0" lower="-0.349066" upper="0.523599" />
        <axis xyz="0 0 1" />
    </joint>
    <joint name="jLeftHandCOM" type="fixed">
        <origin xyz="0 0.096206 0" rpy="0 0 0"/>
        <parent link="LeftHand"/>
        <child link="LeftHandCOM"/>
        <axis xyz="0 0 0" />
    </joint>
	<!--Chain from (16) to (19)-->
	<joint name="jRightHip_rotx" type="fixed">
        <origin xyz="0.000103   -0.081614    0.001009" rpy="0 0 0"/>
        <parent link="Pelvis"/>
        <child link="RightUpperLeg_f1"/>
        <dynamics damping="0.1" friction="0.0"/>
        <limit effort="30" velocity="1.0" lower="-0.785398" upper="0.523599" />
        <axis xyz="1 0 0" />
    </joint>
	<joint name="jRightHip_roty" type="fixed">
        <origin xyz="0 0 0" rpy="0 0 0"/>
        <parent link="RightUpperLeg_f1"/>
        <child link="RightUpperLeg_f2"/>
        <dynamics damping="0.1" friction="0.0"/>
        <limit effort="30" velocity="1.0" lower="-2.0944" upper="0.261799" />
        <axis xyz="0 1 0" />
    </joint>
    <joint name="jRightHip_rotz" type="fixed">
        <origin xyz="0 0 0" rpy="0 0 0"/>
        <parent link="RightUpperLeg_f2"/>
        <child link="RightUpperLeg"/>
        <dynamics damping="0.1" friction="0.0"/>
        <limit effort="30" velocity="1.0" lower="-0.785398" upper="0.785398" />
        <axis xyz="0 0 1" />
    </joint>
	<joint name="jRightKnee_roty" type="fixed">
        <origin xyz="3.6e-05           0    -0.44898" rpy="0 0 0"/>
        <parent link="RightUpperLeg"/>
        <child link="RightLowerLeg_f1"/>
        <dynamics damping="0.1" friction="0.0"/>
        <limit effort="30" velocity="1.0" lower="0" upper="2.35619" />
        <axis xyz="0 1 0" />
    </joint>
	<joint name="jRightKnee_rotz" type="fixed">
        <origin xyz="0 0 0" rpy="0 0 0"/>
        <parent link="RightLowerLeg_f1"/>
        <child link="RightLowerLeg"/>
        <dynamics damping="0.1" friction="0.0"/>
        <limit effort="30" velocity="1.0" lower="-0.698132" upper="0.523599" />
        <axis xyz="0 0 1" />
    </joint>
	<joint name="jRightAnkle_rotx" type="fixed">
        <origin xyz="0.000205           0    -0.40608" rpy="0 0 0"/>
        <parent link="RightLowerLeg"/>
        <child link="RightFoot_f1"/>
        <dynamics damping="0.1" friction="0.0"/>
        <limit effort="30" velocity="1.0" lower="-0.610865" upper="0.785398" />
        <axis xyz="1 0 0" />
    </joint>
	<joint name="jRightAnkle_roty" type="fixed">
        <origin xyz="0 0 0" rpy="0 0 0"/>
        <parent link="RightFoot_f1"/>
        <child link="RightFoot_f2"/>
        <dynamics damping="0.1" friction="0.0"/>
        <limit effort="30" velocity="1.0" lower="-0.523599" upper="0.872665" />
        <axis xyz="0 1 0" />
    </joint>
    <joint name="jRightAnkle_rotz" type="fixed">
        <origin xyz="0 0 0" rpy="0 0 0"/>
        <parent link="RightFoot_f2"/>
        <child link="RightFoot"/>
        <dynamics damping="0.1" friction="0.0"/>
        <limit effort="30" velocity="1.0" lower="-0.436332" upper="0.872665" />
        <axis xyz="0 0 1" />
    </joint>
	<joint name="jRightBallFoot_roty" type="fixed">
        <origin xyz="0.14456           0   -0.064752" rpy="0 0 0"/>
        <parent link="RightFoot"/>
        <child link="RightToe"/>
        <dynamics damping="0.1" friction="0.0"/>
        <limit effort="30" velocity="1.0" lower="-0.174533" upper="1.5708" />
        <axis xyz="0 1 0" />
    </joint>
	<!--Chain from (20) to (23)-->
	<joint name="jLeftHip_rotx" type="fixed">
        <origin xyz="0.000103    0.081614    0.001009" rpy="0 0 0"/>
        <parent link="Pelvis"/>
        <child link="LeftUpperLeg_f1"/>
        <dynamics damping="0.1" friction="0.0"/>
        <limit effort="30" velocity="1.0" lower="-0.523599" upper="0.785398" />
        <axis xyz="1 0 0" />
    </joint>
	<joint name="jLeftHip_roty" type="fixed">
        <origin xyz="0 0 0" rpy="0 0 0"/>
        <parent link="LeftUpperLeg_f1"/>
        <child link="LeftUpperLeg_f2"/>
        <dynamics damping="0.1" friction="0.0"/>
        <limit effort="30" velocity="1.0" lower="-2.0944" upper="0.261799" />
        <axis xyz="0 1 0" />
    </joint>
    <joint name="jLeftHip_rotz" type="fixed">
        <origin xyz="0 0 0" rpy="0 0 0"/>
        <parent link="LeftUpperLeg_f2"/>
        <child link="LeftUpperLeg"/>
        <dynamics damping="0.1" friction="0.0"/>
        <limit effort="30" velocity="1.0" lower="-0.785398" upper="0.785398" />
        <axis xyz="0 0 1" />
    </joint>
	<joint name="jLeftKnee_roty" type="fixed">
        <origin xyz="3.6e-05           0    -0.44898" rpy="0 0 0"/>
        <parent link="LeftUpperLeg"/>
        <child link="LeftLowerLeg_f1"/>
        <dynamics damping="0.1" friction="0.0"/>
        <limit effort="30" velocity="1.0" lower="0" upper="2.35619" />
        <axis xyz="0 1 0" />
    </joint>
    <joint name="jLeftKnee_rotz" type="fixed">
        <origin xyz="0 0 0" rpy="0 0 0"/>
        <parent link="LeftLowerLeg_f1"/>
        <child link="LeftLowerLeg"/>
        <dynamics damping="0.1" friction="0.0"/>
        <limit effort="30" velocity="1.0" lower="-0.523599" upper="0.698132" />
        <axis xyz="0 0 1" />
    </joint>
	<joint name="jLeftAnkle_rotx" type="fixed">
        <origin xyz="0.000205           0    -0.40608" rpy="0 0 0"/>
        <parent link="LeftLowerLeg"/>
        <child link="LeftFoot_f1"/>
        <dynamics damping="0.1" friction="0.0"/>
        <limit effort="30" velocity="1.0" lower="-0.785398" upper="0.610865" />
        <axis xyz="1 0 0" />
    </joint>
	<joint name="jLeftAnkle_roty" type="fixed">
        <origin xyz="0 0 0" rpy="0 0 0"/>
        <parent link="LeftFoot_f1"/>
        <child link="LeftFoot_f2"/>
        <dynamics damping="0.1" friction="0.0"/>
        <limit effort="30" velocity="1.0" lower="-0.523599" upper="0.872665" />
        <axis xyz="0 1 0" />
    </joint>
    <joint name="jLeftAnkle_rotz" type="fixed">
        <origin xyz="0 0 0" rpy="0 0 0"/>
        <parent link="LeftFoot_f2"/>
        <child link="LeftFoot"/>
        <dynamics damping="0.1" friction="0.0"/>
        <limit effort="30" velocity="1.0" lower="-0.872665" upper="0.436332" />
        <axis xyz="0 0 1" />
    </joint>
	<joint name="jLeftBallFoot_roty" type="fixed">
        <origin xyz="0.14456           0   -0.064752" rpy="0 0 0"/>
        <parent link="LeftFoot"/>
        <child link="LeftToe"/>
        <dynamics damping="0.1" friction="0.0"/>
        <limit effort="30" velocity="1.0" lower="-0.174533" upper="1.5708" />
        <axis xyz="0 1 0" />
    </joint>

</robot>
